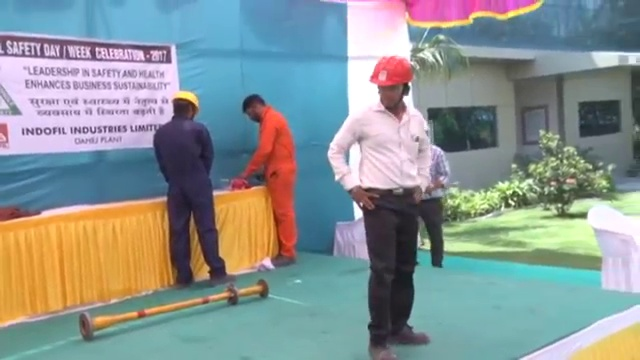helmet: (367, 53, 417, 86), (170, 88, 202, 114), (419, 115, 431, 134)
helmet_off: (239, 92, 269, 127)
helmet_on: (365, 51, 418, 118), (168, 86, 203, 126), (419, 115, 434, 148)
person: (326, 51, 432, 360), (153, 86, 238, 286), (239, 94, 298, 268), (417, 113, 452, 268)
